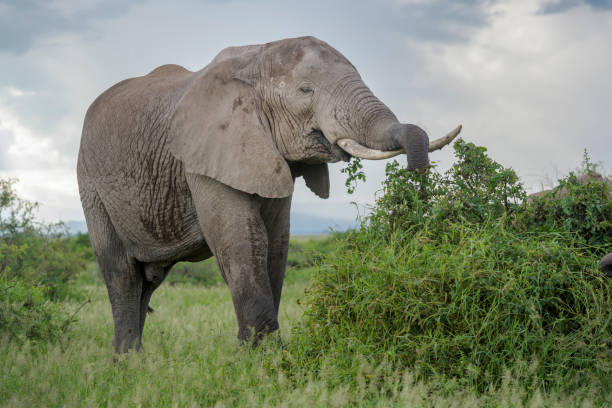africanelephant: (191, 39, 459, 182)
